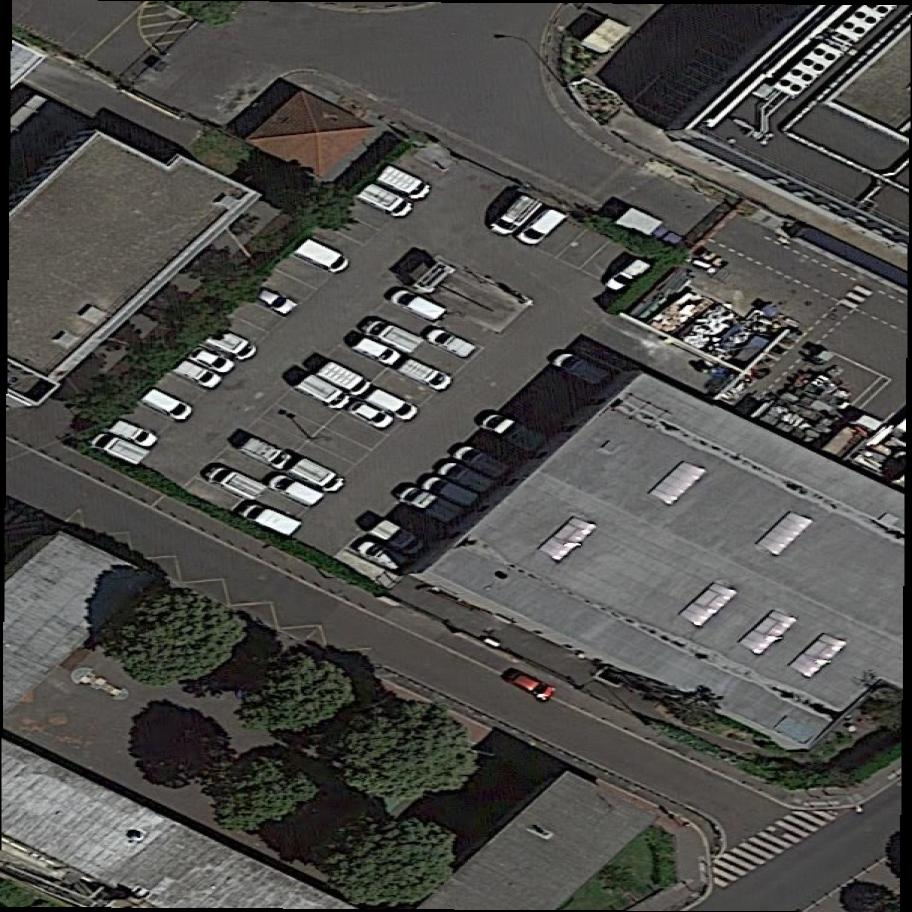small-vehicle: (475, 409, 548, 458), (485, 186, 545, 244), (395, 482, 465, 528), (284, 453, 351, 500), (235, 498, 306, 542), (313, 354, 376, 403), (289, 234, 356, 280), (292, 369, 356, 417), (265, 466, 327, 513), (353, 179, 417, 224), (202, 461, 268, 504), (202, 321, 262, 368), (360, 314, 425, 357), (366, 515, 428, 560), (385, 284, 451, 326), (86, 428, 152, 470), (515, 202, 569, 253), (549, 347, 613, 389), (394, 353, 456, 396), (137, 382, 197, 426), (601, 251, 656, 299), (450, 440, 512, 482), (361, 383, 421, 425), (235, 433, 295, 475), (435, 457, 498, 496), (375, 163, 433, 205), (102, 414, 163, 453), (500, 663, 558, 704), (353, 535, 411, 576), (166, 355, 226, 394), (420, 472, 481, 509), (423, 323, 479, 362), (345, 395, 397, 435), (349, 332, 404, 369), (183, 342, 238, 379), (250, 283, 301, 321)
